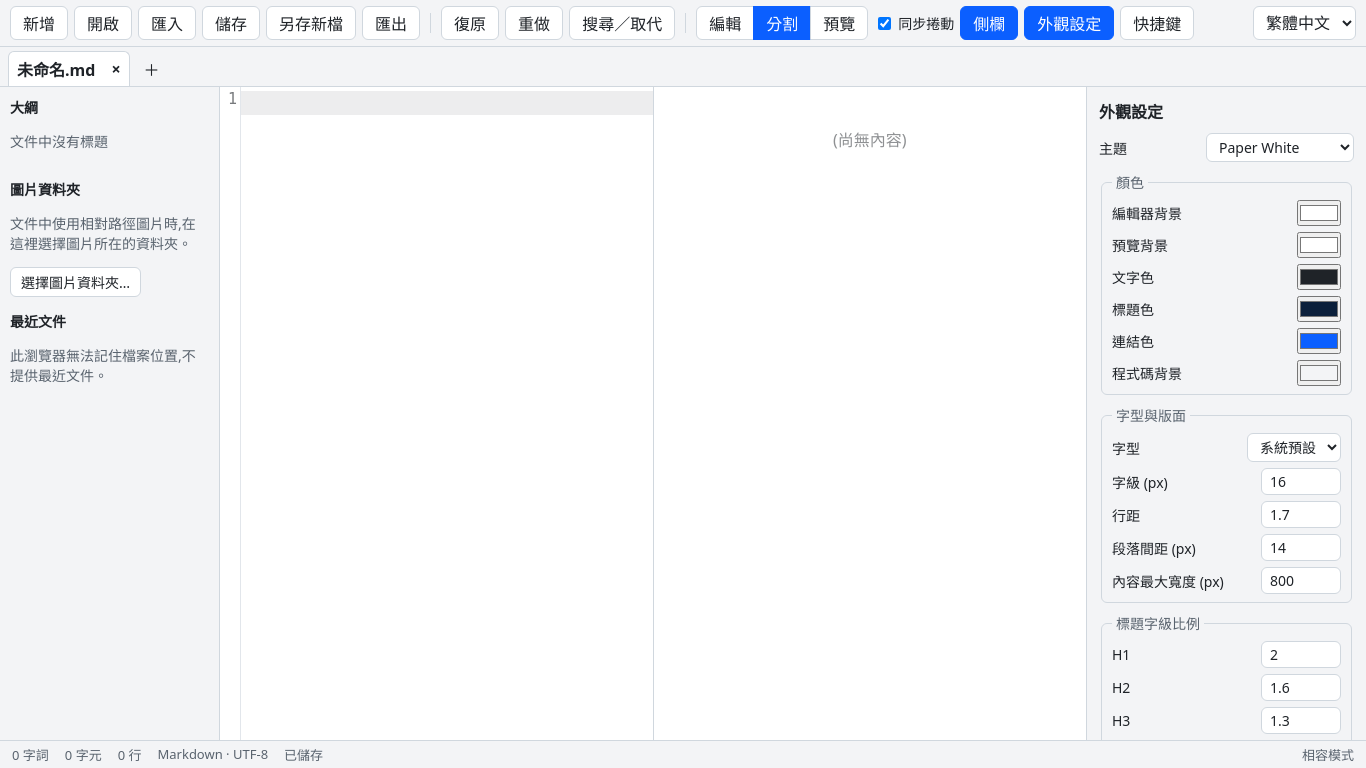
Test case: image folder › tells you when the document has relative images and no folder yet; the preview does not load them
What coordinates should you click on to do the following:
click the button "開啟"
I would click on:
 (103, 23)
Its box is [74, 6, 132, 40].
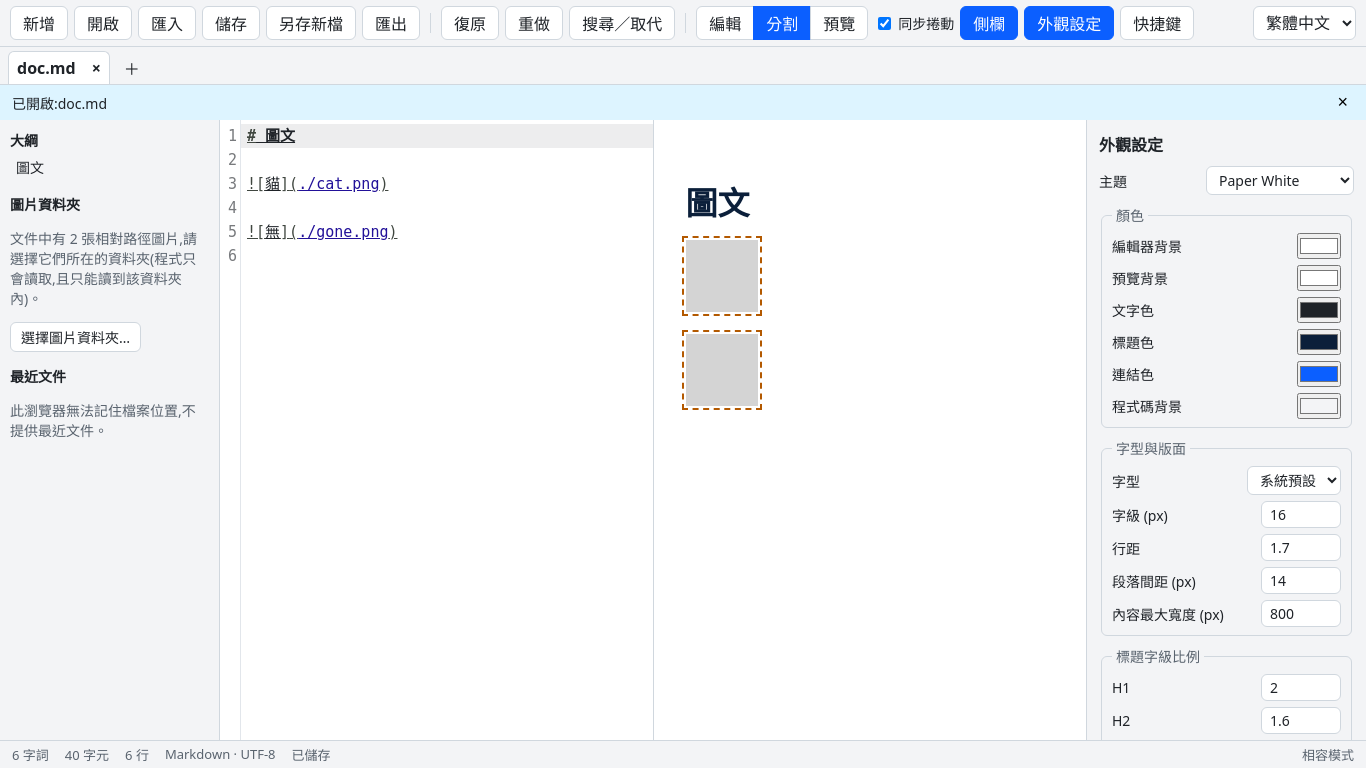
Check: the text "文件中有 2 張相對路徑圖片,請選擇它們所在的資料夾(程式只會讀取,且只能讀到該資料夾內)。" is shown, box [10, 228, 209, 308]
